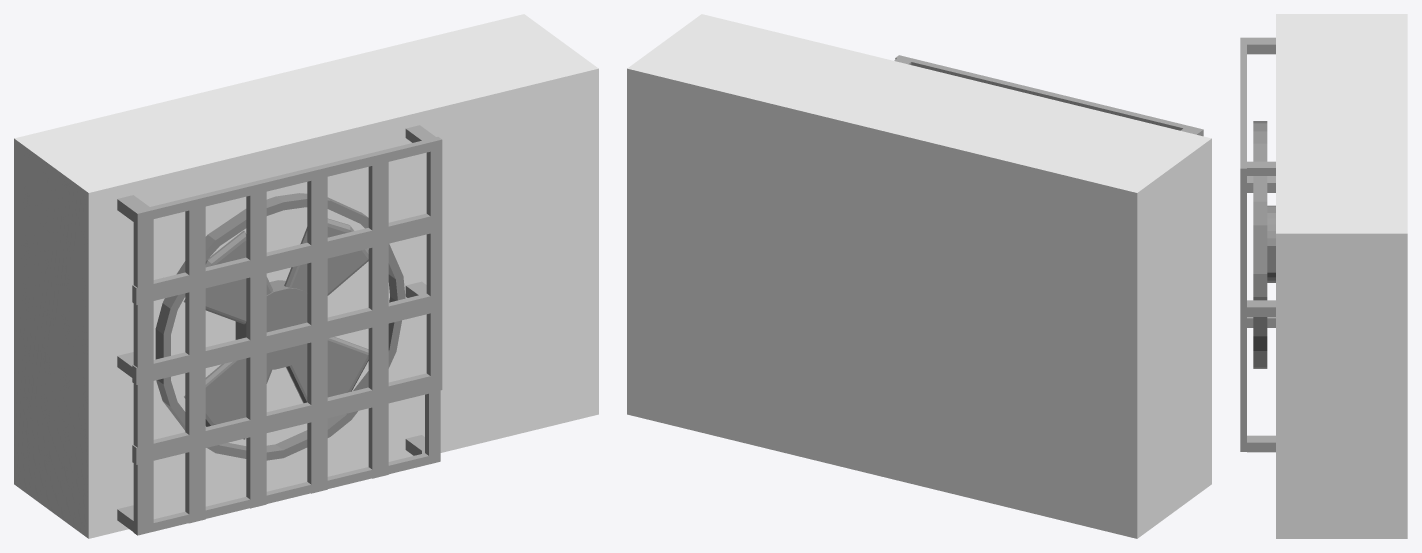
The model's file is Climate.fbx.
3 views of the same model, side by side, from view 1: azimuth 30°, elevation 25°; view 2: azimuth 150°, elevation 25°; view 3: azimuth 270°, elevation 25° (orthographic). The views are drawn at different scales.
Parts seen in each view (by area): view 1: Climate; view 2: Climate; view 3: Climate.
Boxes of the visible parts, x1,y1,x2,y2 form: Climate: (14,14,598,538); Climate: (627,14,1211,538); Climate: (1240,14,1407,538).
Bounding box in the file's own units: 156 × 101 × 50.25.
